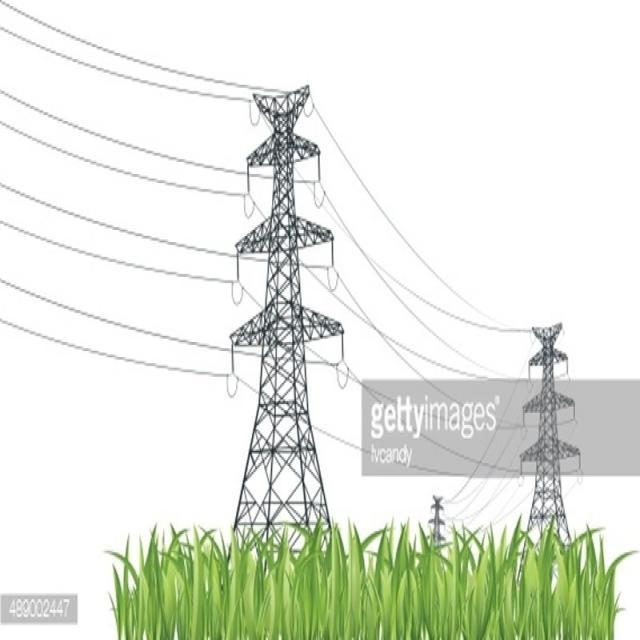non-critical vegetation: (216, 55, 348, 548), (512, 313, 582, 539)
